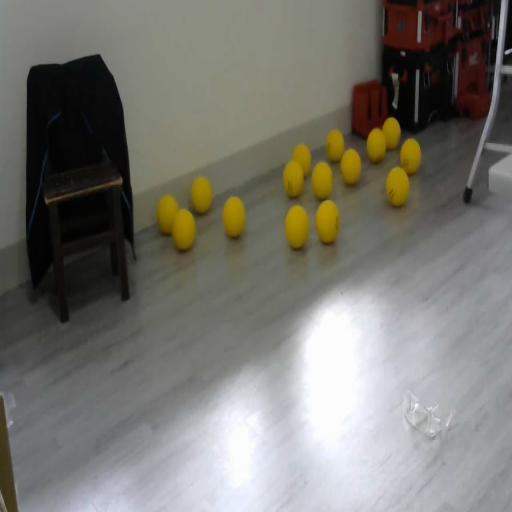FUEL: (284, 204, 310, 250), (315, 198, 340, 244), (222, 194, 246, 239), (385, 165, 410, 207), (311, 160, 334, 201), (190, 176, 214, 215), (156, 194, 178, 234), (340, 147, 362, 185), (400, 137, 422, 175), (366, 127, 386, 163), (292, 144, 312, 178), (326, 129, 344, 163), (382, 116, 400, 150)
